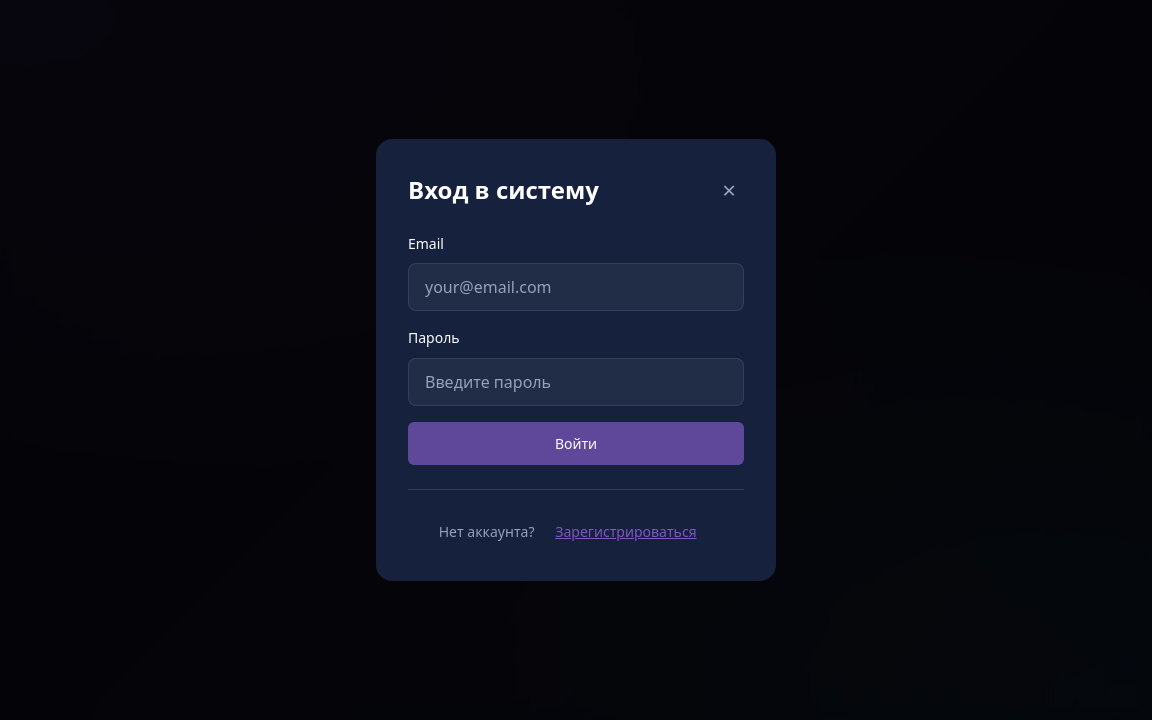
AuthModal › переключается между входом и регистрацией
This screenshot has width=1152, height=720.
Expected: the heading "Вход в систему" is shown, [408,170,599,209]
Step 1. Click the button "Зарегистрироваться" → (626, 532), box [538,514,713,550]
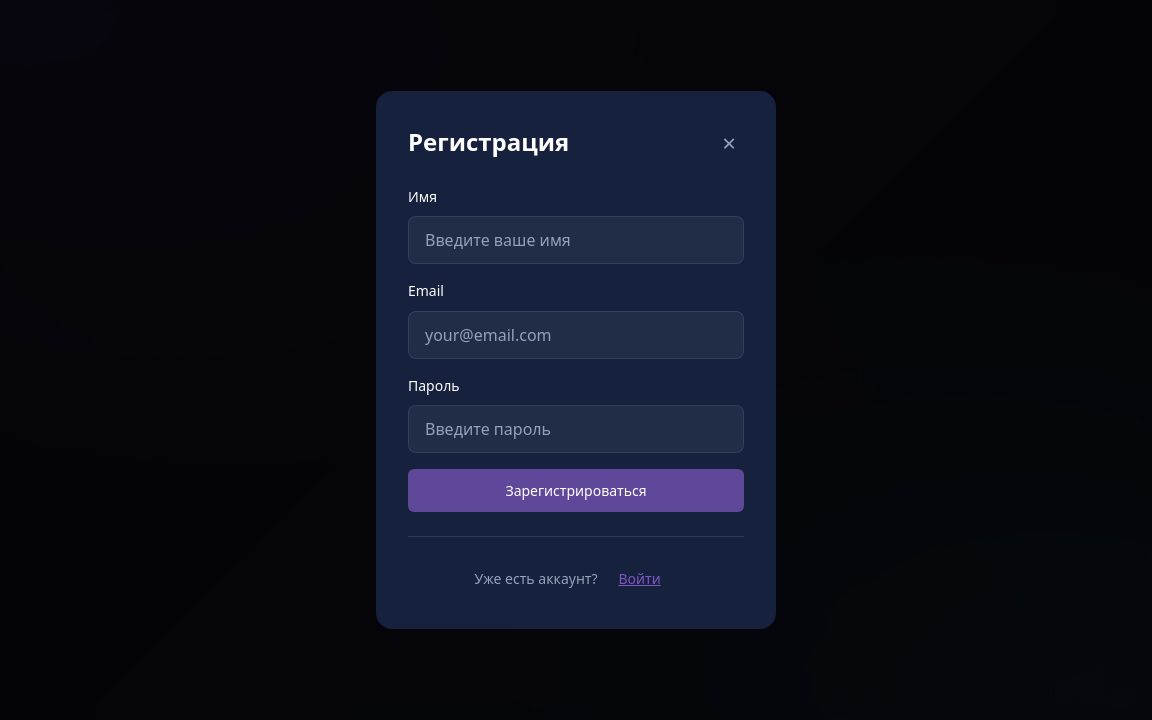
Expected: the heading "Регистрация" is shown, [408,123,569,162]
Expected: the field with placeholder "Введите ваше имя" is shown, [408,216,744,264]
Step 2. Click the button "Войти" → (640, 579), box [602,561,677,597]
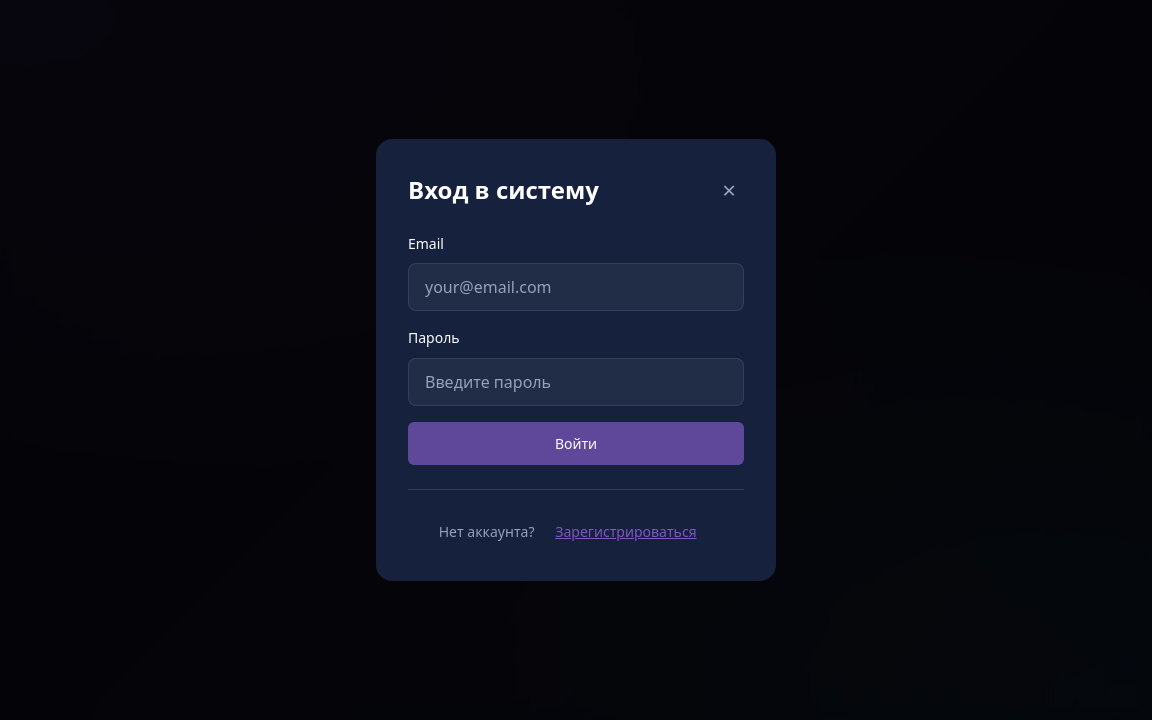
Expected: the heading "Вход в систему" is shown, [408,170,599,209]
